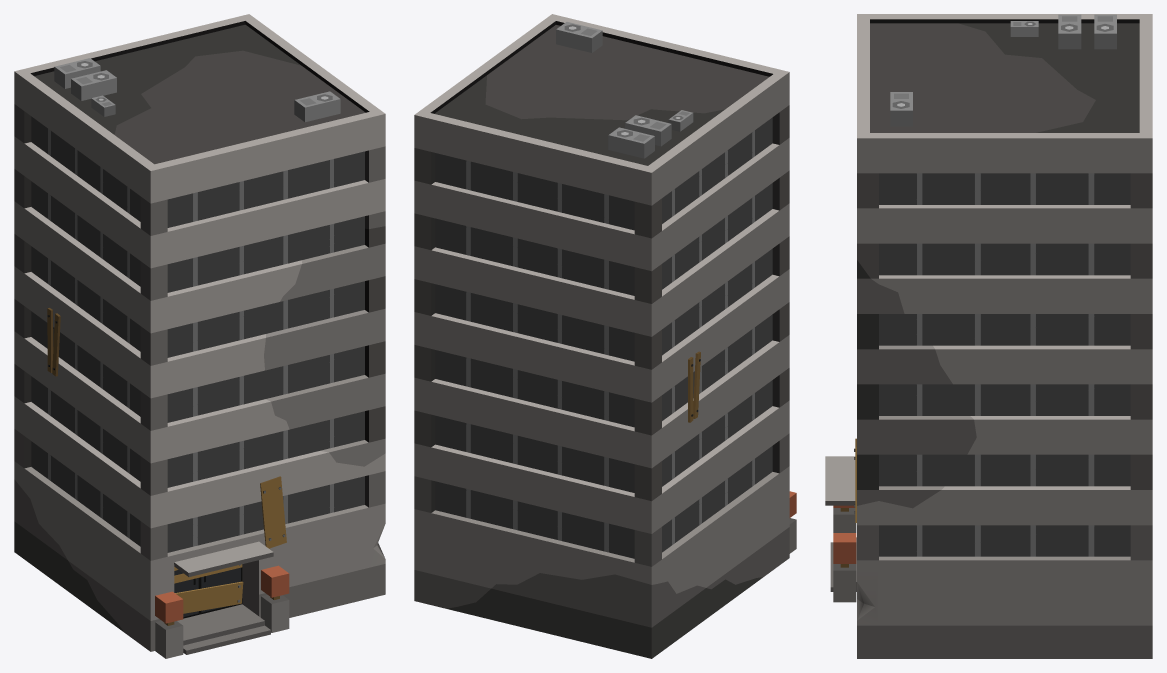
The model's file is SA_Bld_OfficeGrey_03.gltf.
3 renders of one model, left to right at view 1: azimuth 30°, elevation 25°; view 2: azimuth 150°, elevation 25°; view 3: azimuth 270°, elevation 25°, orthographic. The views are drawn at different scales.
Visible parts, largest first — view 1: SA_Bld_OfficeGrey_03; view 2: SA_Bld_OfficeGrey_03; view 3: SA_Bld_OfficeGrey_03.
Part boxes in pixels (x1,y1,x2,y2): SA_Bld_OfficeGrey_03: (14,14,385,658); SA_Bld_OfficeGrey_03: (414,14,796,658); SA_Bld_OfficeGrey_03: (825,14,1152,658).
Size of the model in its own units: 13.82 by 27.24 by 15.17.
Materials: 1 (1 with a texture image).
